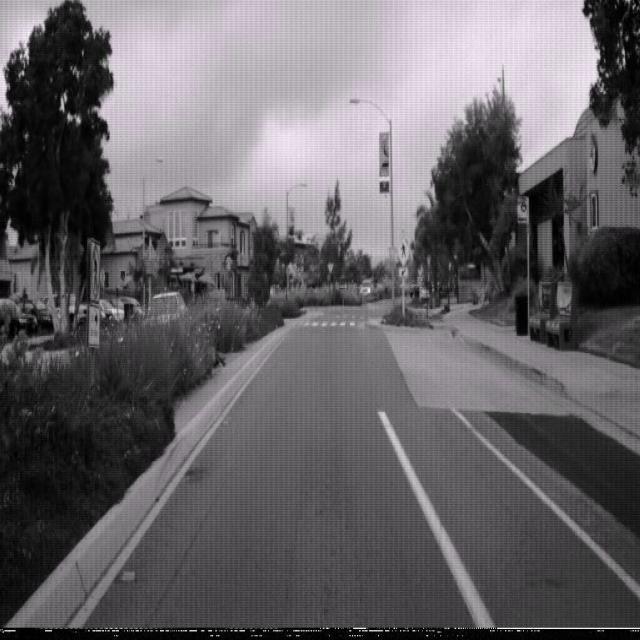pedestrianCrossing: (396, 237, 411, 266)
